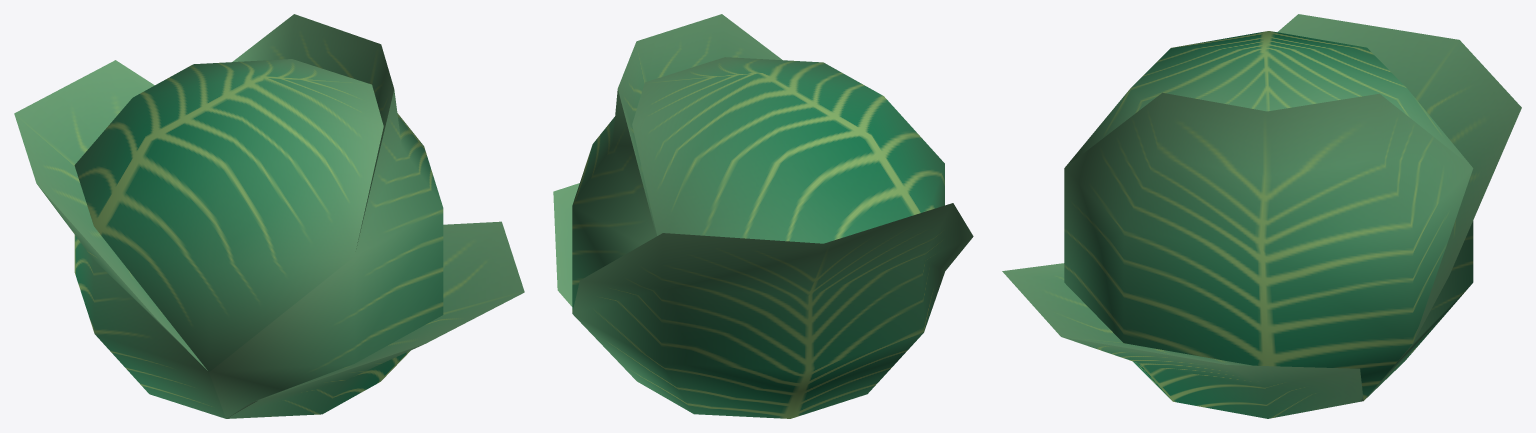
The model's file is 001-Cabbage.FBX.
The picture shows the model from 3 angles, left to right: view 1: azimuth 30°, elevation 25°; view 2: azimuth 150°, elevation 25°; view 3: azimuth 270°, elevation 25°; orthographic projection. The views are drawn at different scales.
Visible parts, largest first — view 1: 001-Cabbage; view 2: 001-Cabbage; view 3: 001-Cabbage.
Boxes of the visible parts, x1,y1,x2,y2 form: 001-Cabbage: [14, 14, 524, 418]; 001-Cabbage: [553, 14, 973, 418]; 001-Cabbage: [1002, 14, 1521, 418].
Size of the model in its own units: 25.73 by 18.84 by 25.2.
